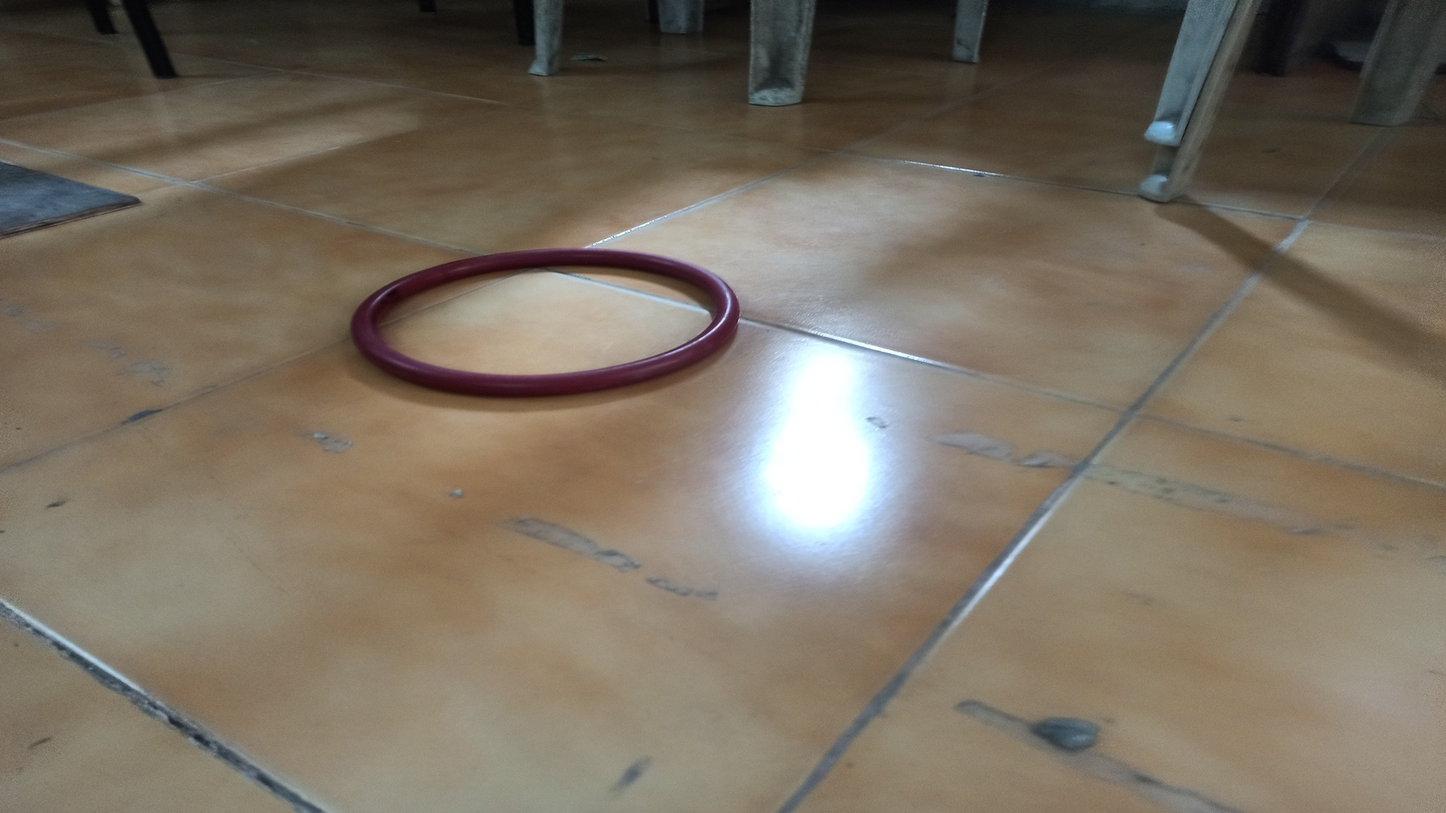Red ring: (349, 251, 742, 400)
